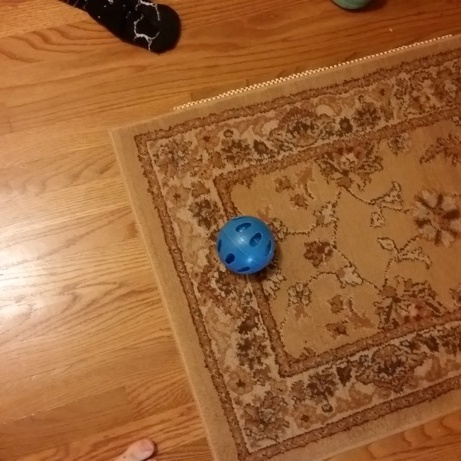blueball: (213, 212, 277, 276)
